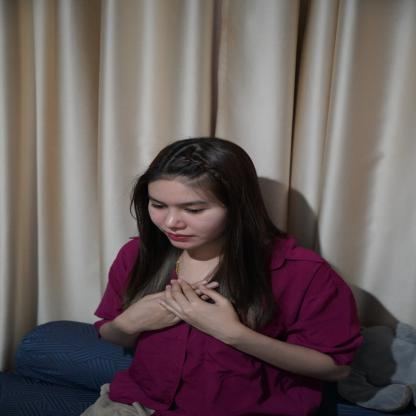Grieve: (119, 276, 247, 346)
